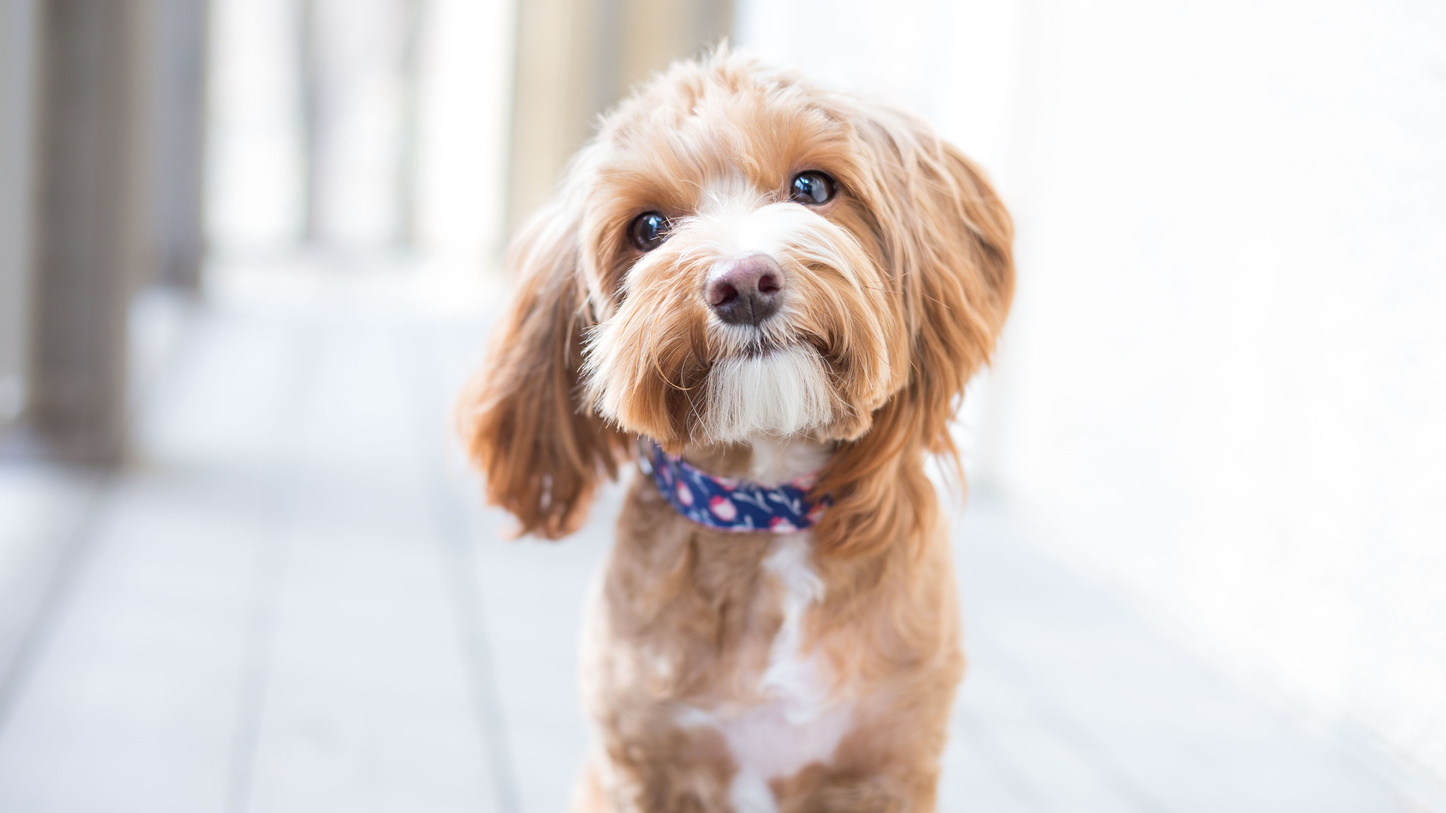Dog: (397, 37, 1137, 792)
